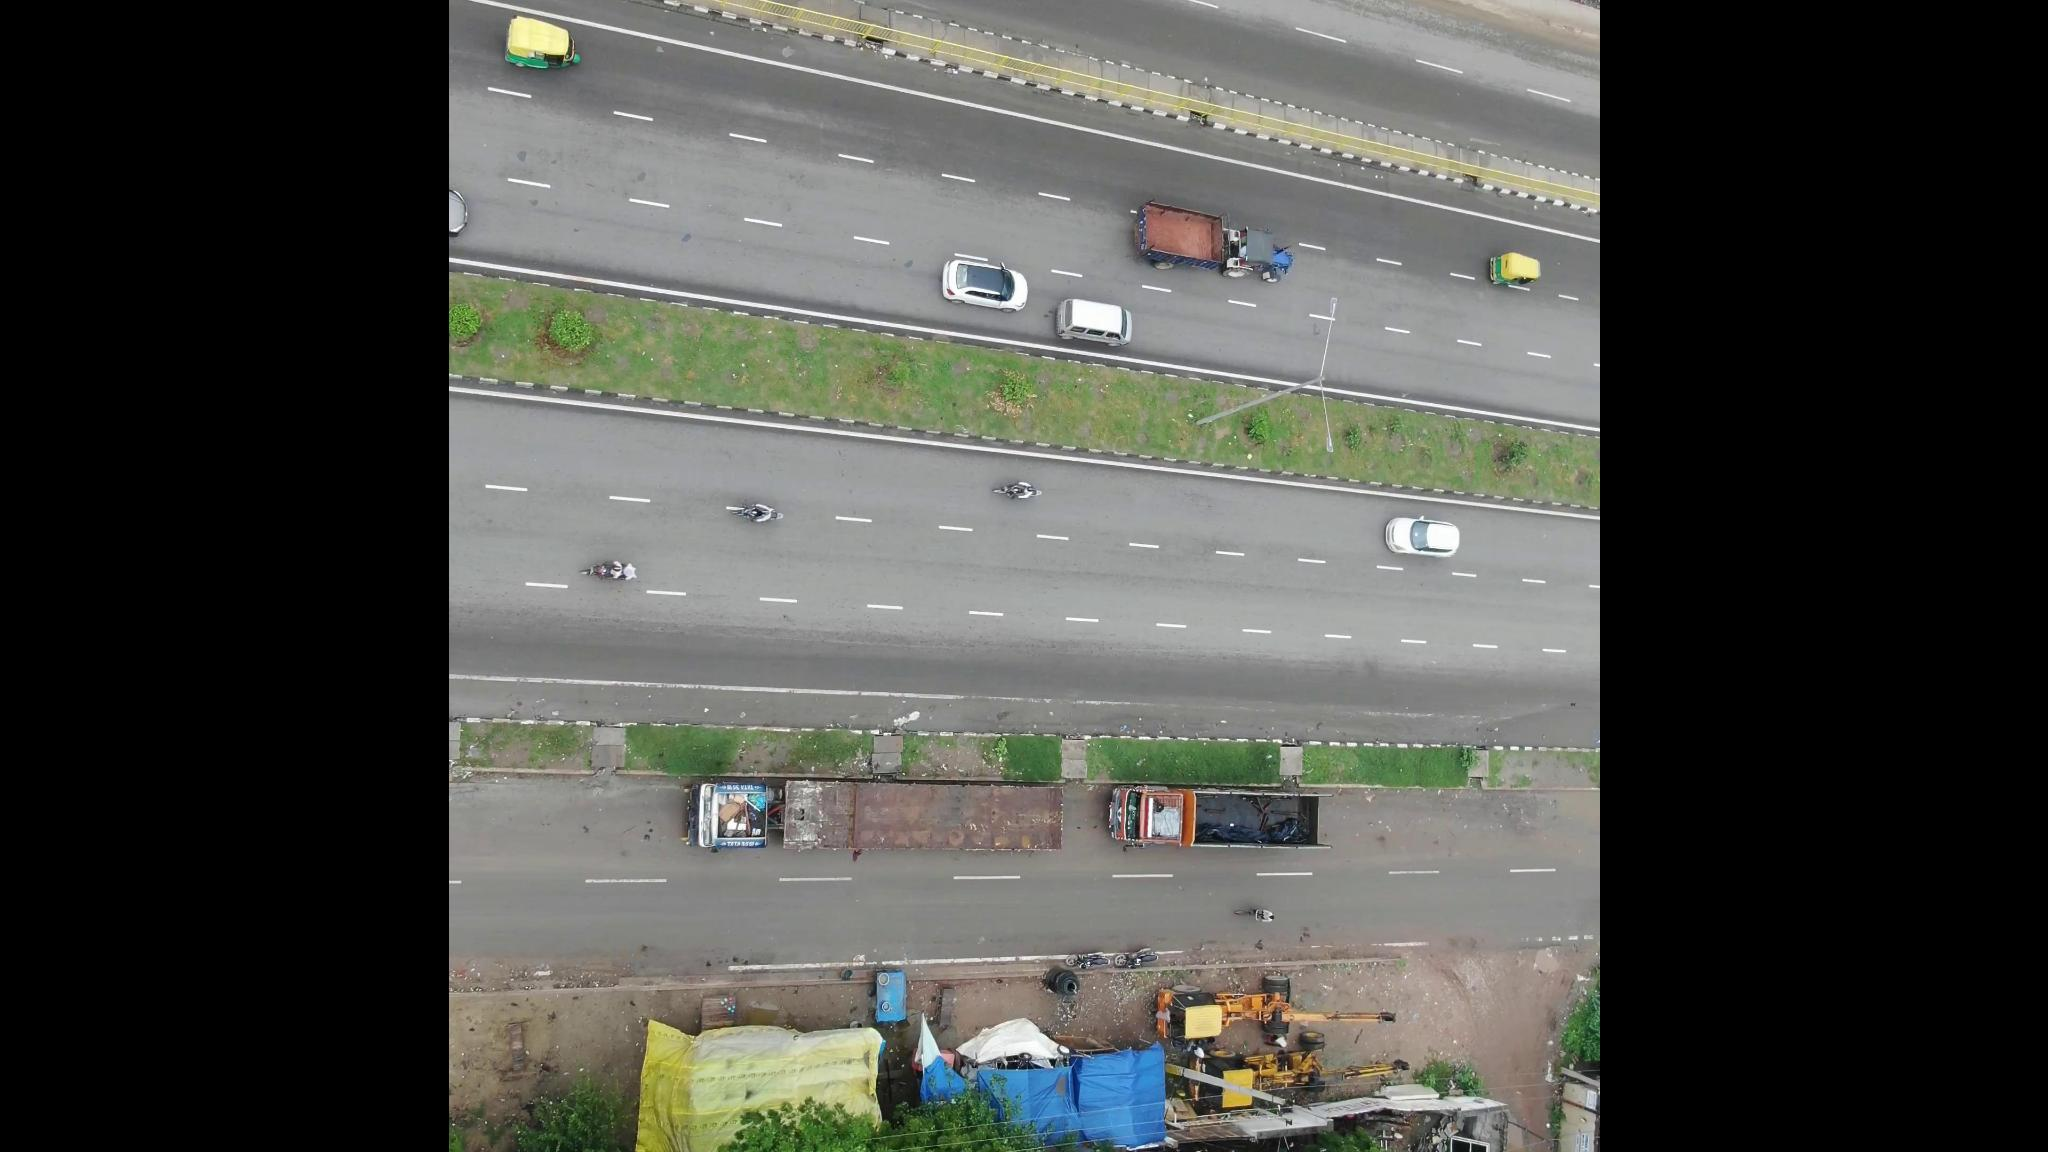Muddy_road: (1355, 800, 1589, 857)
